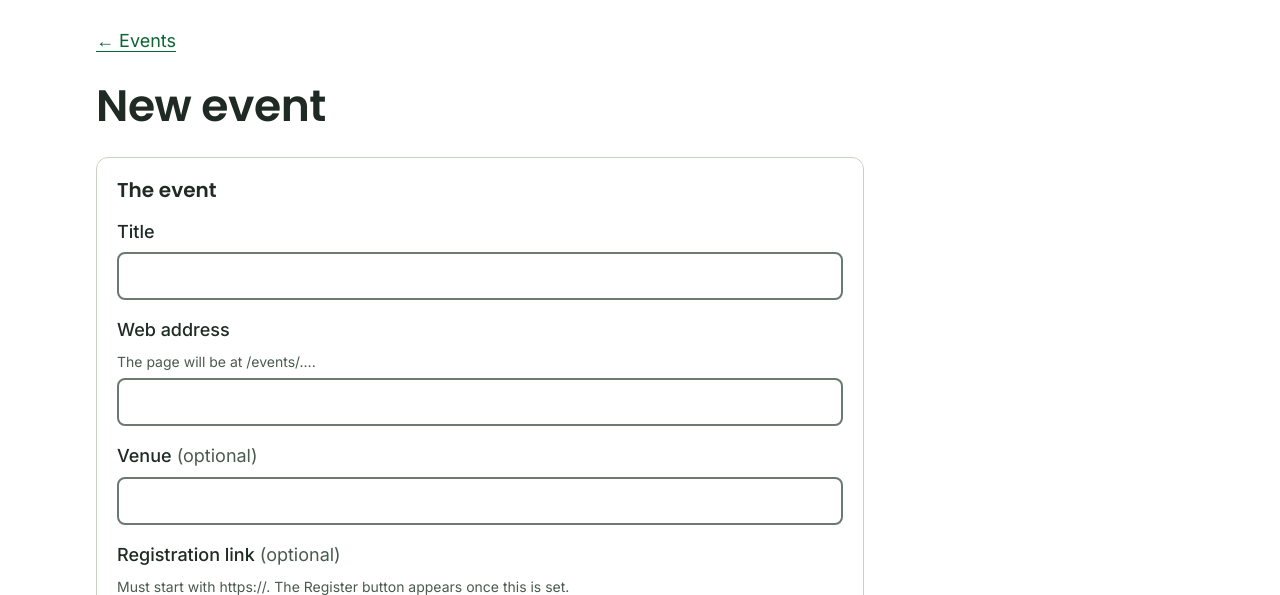
posting an event › needs only a title and a date: the web address fills itself in
Type "Pharmacy Careers Fair" into the field labelled "Title".
click(480, 276); type("Pharmacy Careers Fair")  # box [117,252,843,300]
(page scrolled)
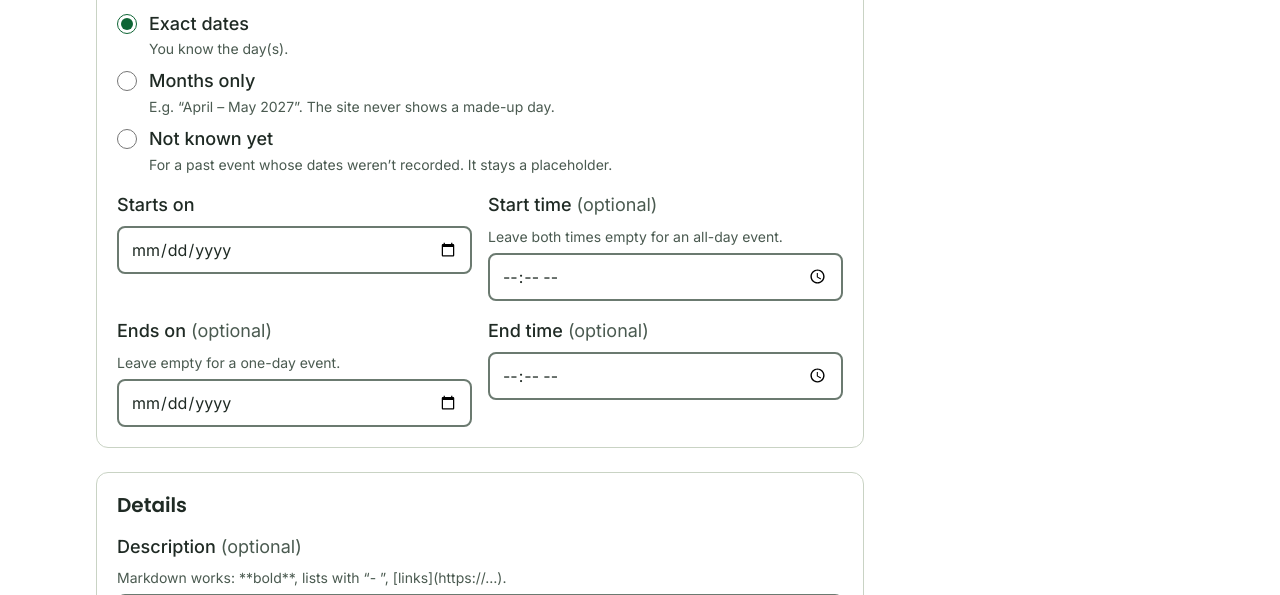
Type "2026-11-20" into the date field labelled "Starts on".
click(294, 250); type("2026-11-20")  # box [117,226,472,274]
(page scrolled)
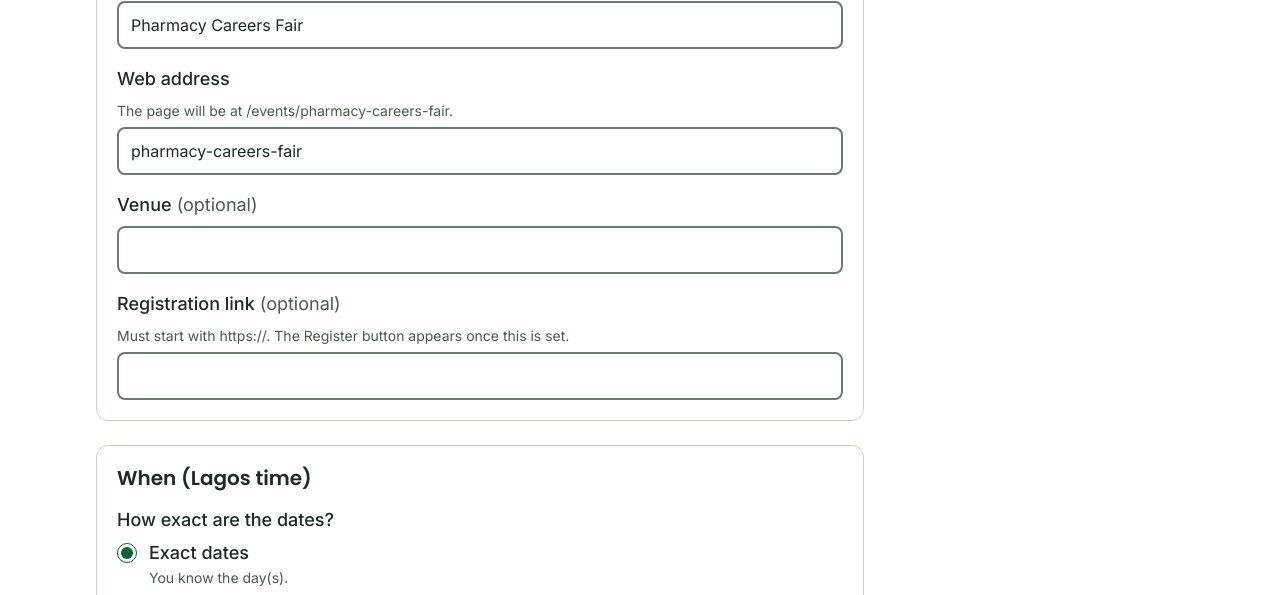
Type "Faculty of Pharmacy, Idi-Araba" into the field labelled "Venue (optional)".
click(480, 250); type("Faculty of Pharmacy, Idi-Araba")  # box [117,226,843,274]
(page scrolled)
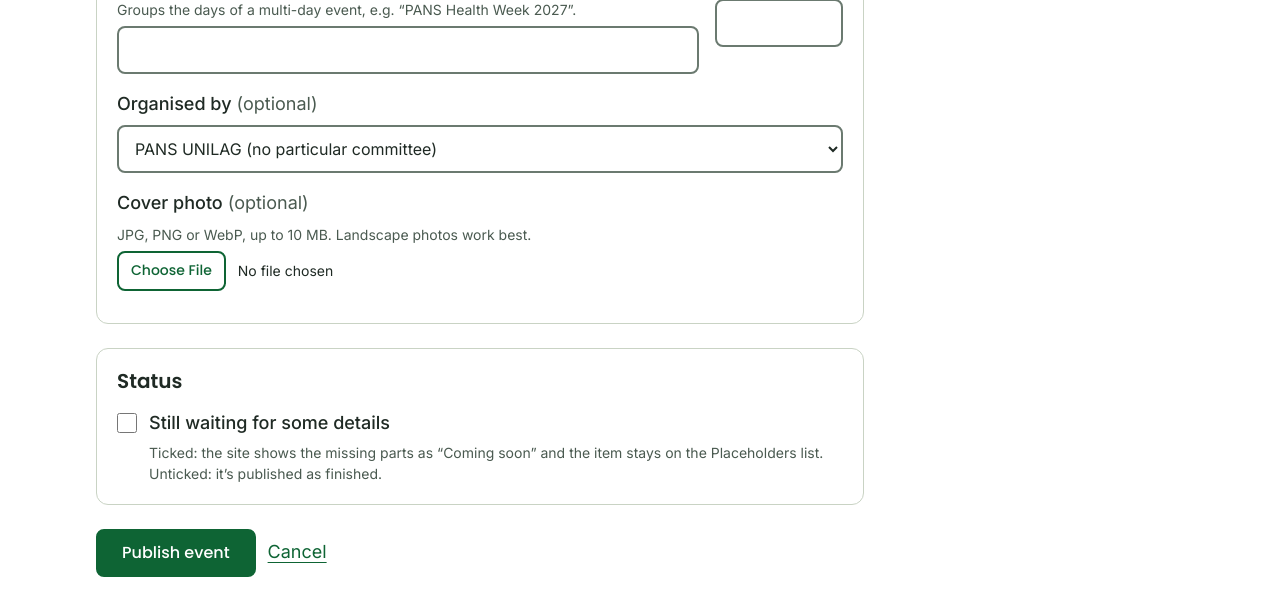
Click the button "Publish event".
click(176, 552)  # box [96,528,256,576]
(page scrolled)
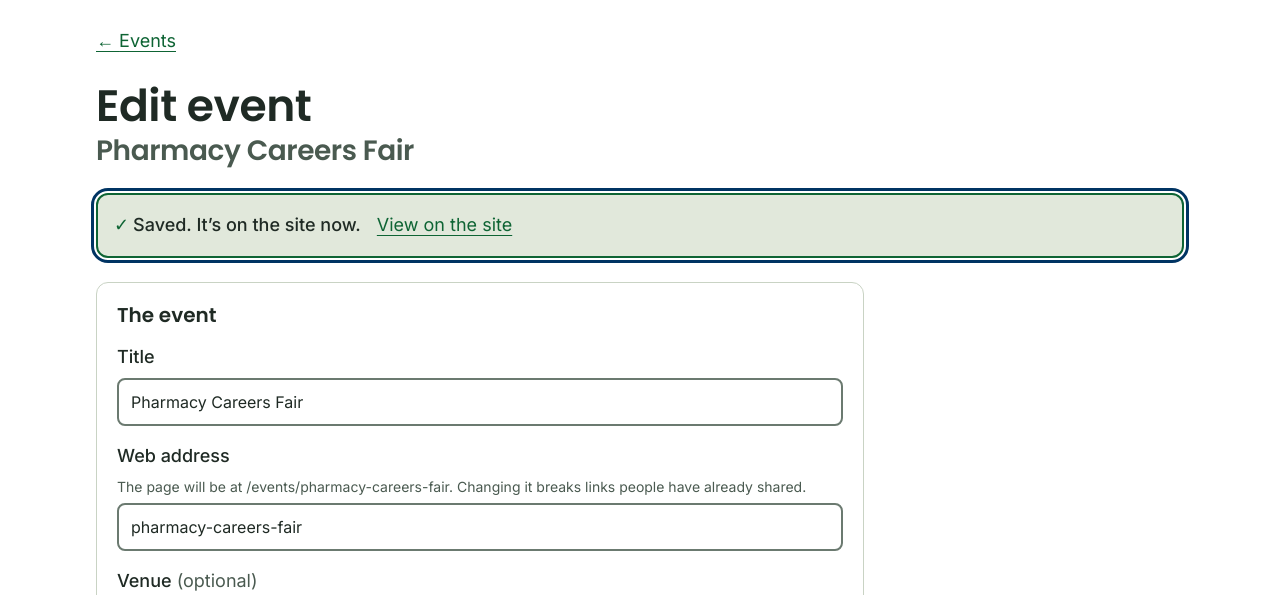
Result: the text "✓Saved. It’s on the site now." is shown at [114,211,361,240]
